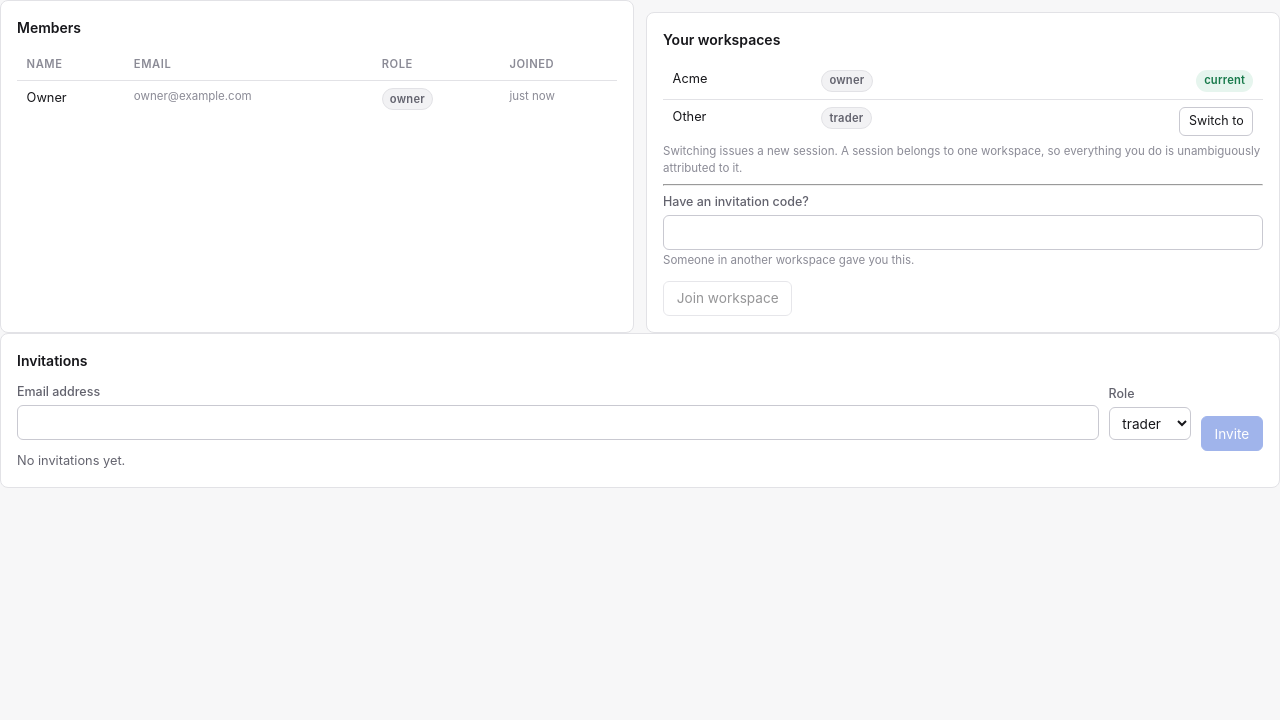
Test: the workspace screen › reports a refused invitation code instead of appearing to succeed
Step 1. Type "bad-token" into the field labelled "Have an invitation code?" → (963, 233), box [663,215,1263,250]
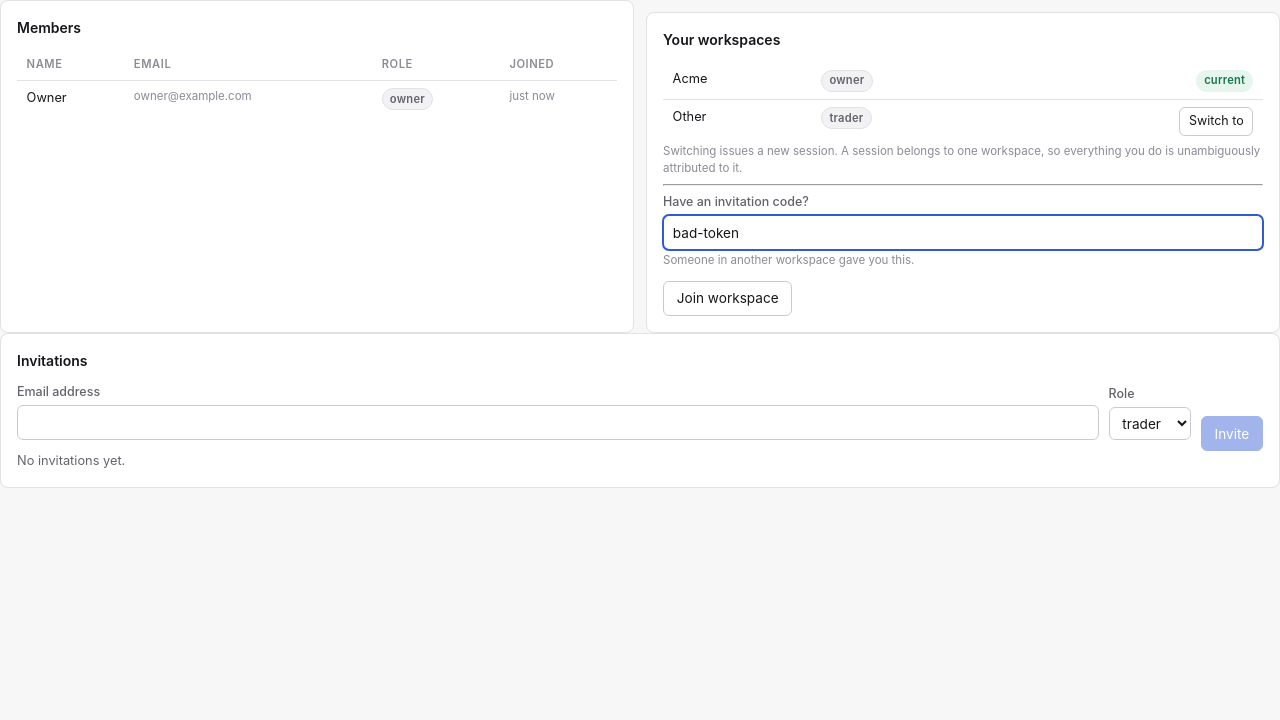
Step 2. Click the button "Join workspace" → (728, 298), box [663,281,792,316]
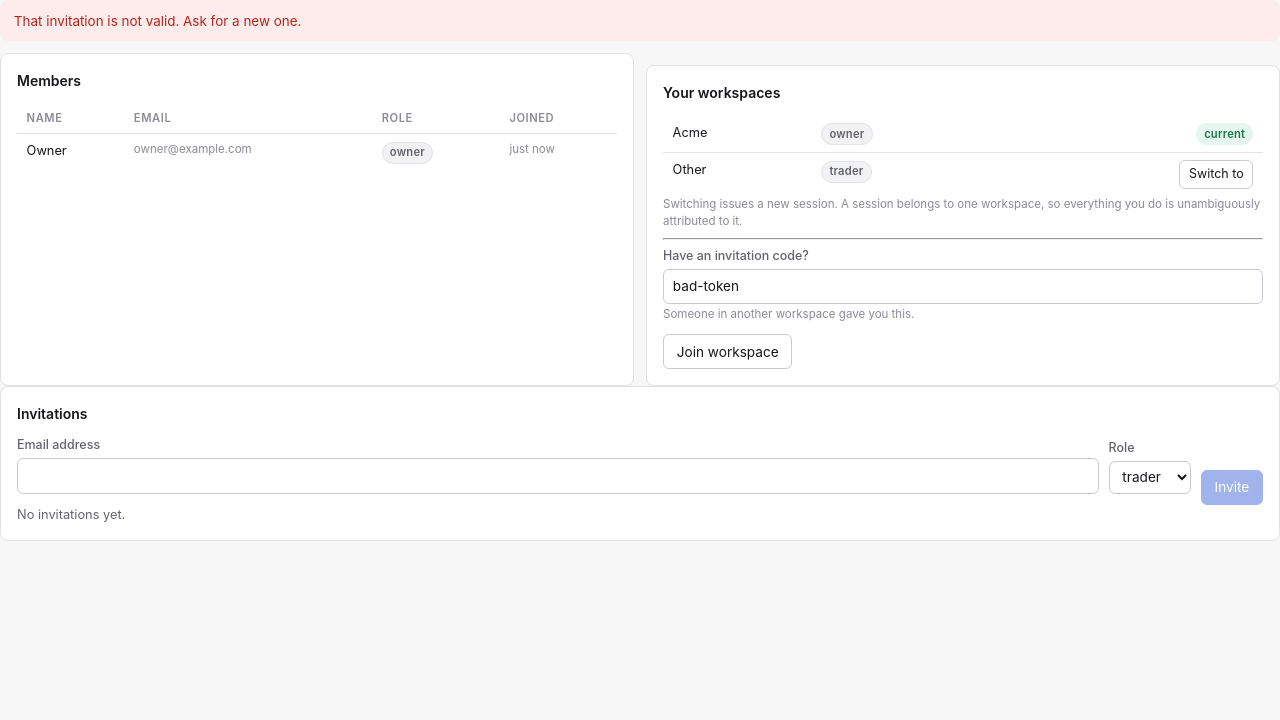
Now the text "That invitation is not valid. Ask for a new one." is shown, box [0,0,1279,41]
